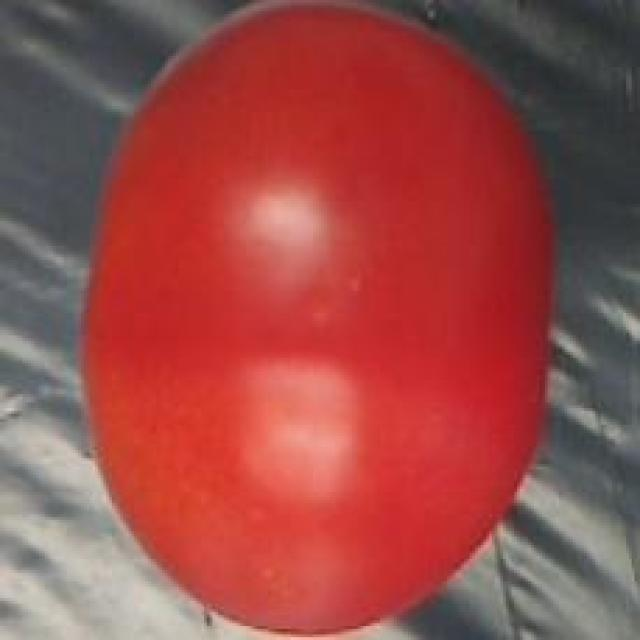ripe tomato: (58, 0, 576, 640)
